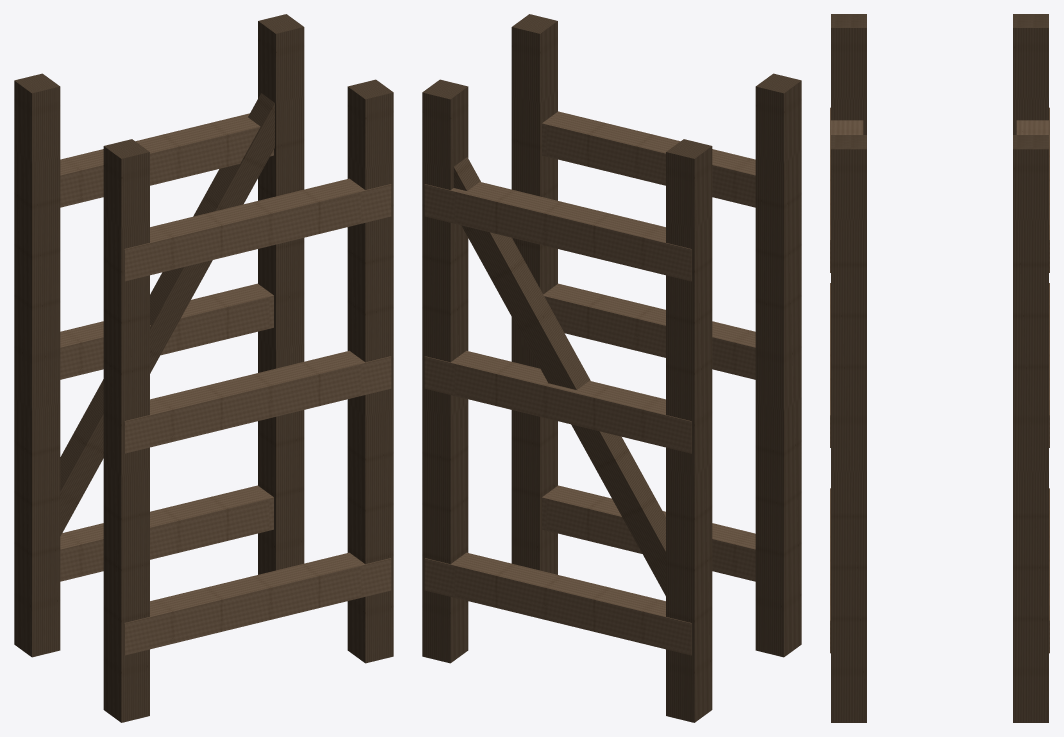
The model's file is village__04__old_warehouse__storage_rack.glb.
3 renders of one model, left to right at view 1: azimuth 30°, elevation 25°; view 2: azimuth 150°, elevation 25°; view 3: azimuth 270°, elevation 25°, orthographic.
Parts seen in each view (by area): view 1: StorageRack_Section_01; view 2: StorageRack_Section_01; view 3: StorageRack_Section_01.
Boxes of the visible parts, x1,y1,x2,y2 form: StorageRack_Section_01: [14, 14, 393, 722]; StorageRack_Section_01: [422, 14, 801, 722]; StorageRack_Section_01: [830, 14, 1049, 722].
Size of the model in its own units: 1.15 by 2.28 by 0.792.
Materials: 2 (2 with a texture image).
